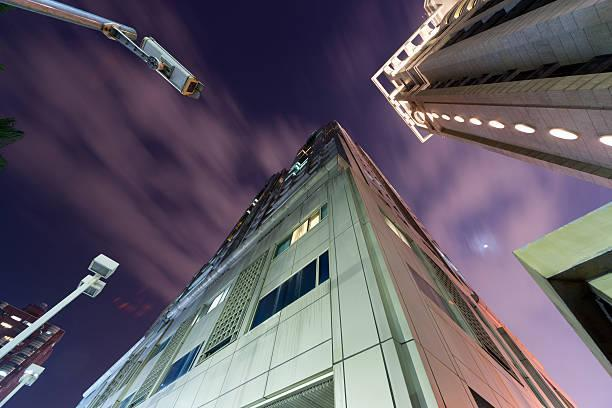camera: (132, 12, 212, 110)
